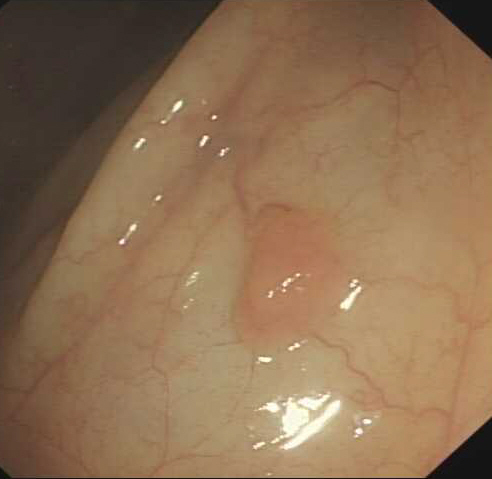others: (235, 209, 342, 355)
